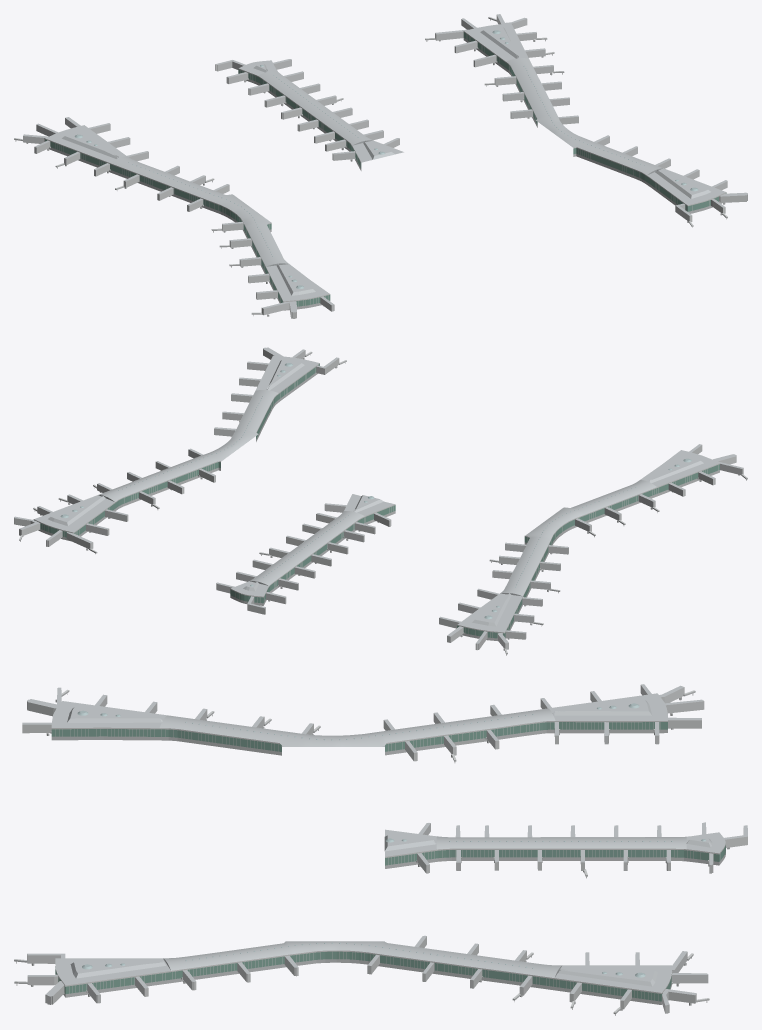
File: istanbul-airport-piers.detail.glb
The picture shows the model from 3 angles, top to bottom: view 1: azimuth 30°, elevation 25°; view 2: azimuth 150°, elevation 25°; view 3: azimuth 270°, elevation 25°; orthographic projection. The views are drawn at different scales.
Parts seen in each view (by area): view 1: Istanbul Airport piers; view 2: Istanbul Airport piers; view 3: Istanbul Airport piers.
Boxes of the visible parts, <box> form: Istanbul Airport piers: <box>14,14,747,318</box>; Istanbul Airport piers: <box>14,347,747,655</box>; Istanbul Airport piers: <box>14,684,747,1015</box>.
Bounding box in the file's own units: 1273 × 30.6 × 1222.
